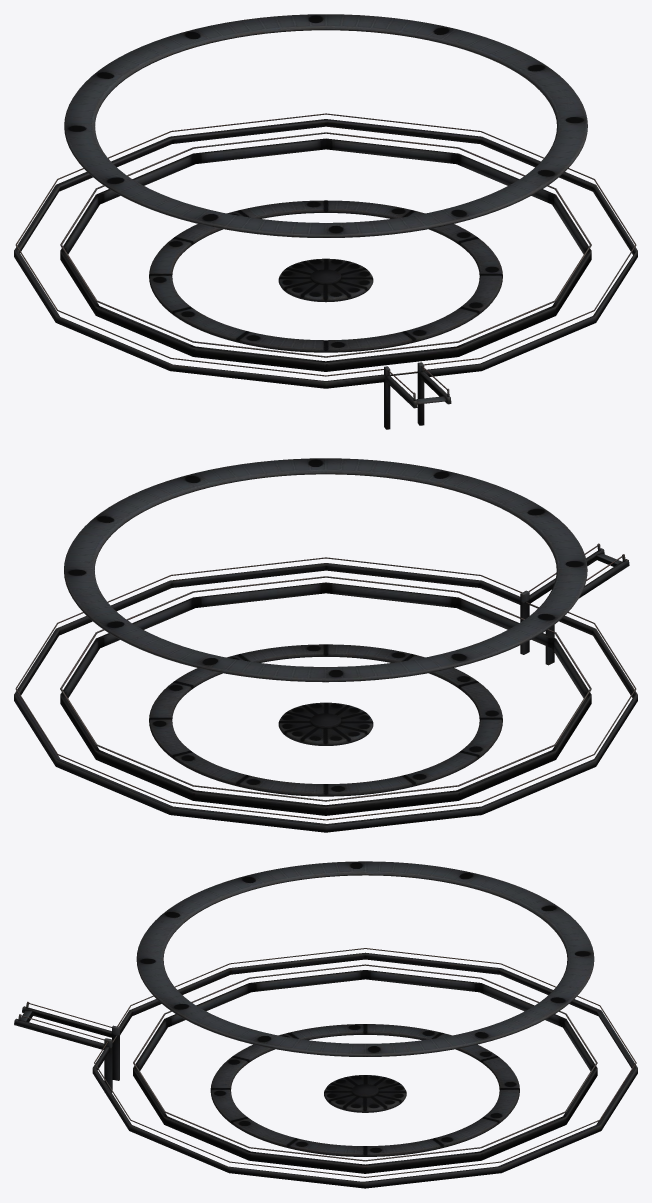
File: experiment_ring.glb
3 views of the same model, one above another, from view 1: azimuth 30°, elevation 25°; view 2: azimuth 150°, elevation 25°; view 3: azimuth 270°, elevation 25° (orthographic). The views are drawn at different scales.
Visible parts, largest first — view 1: Ring_Low; view 2: Ring_Low; view 3: Ring_Low.
Boxes of the visible parts, <box> form: Ring_Low: <box>14,14,637,429</box>; Ring_Low: <box>14,458,637,832</box>; Ring_Low: <box>14,861,637,1188</box>.
Size of the model in its own units: 44.5 by 14.14 by 50.92.
1 material, 1 textured.
